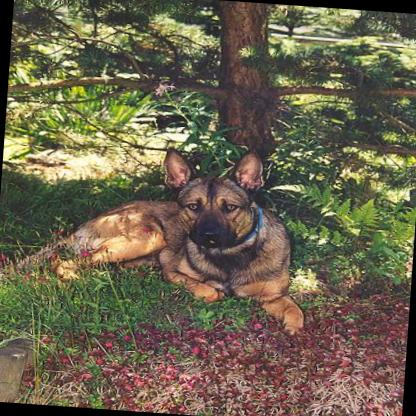malinois: (44, 134, 320, 340)
